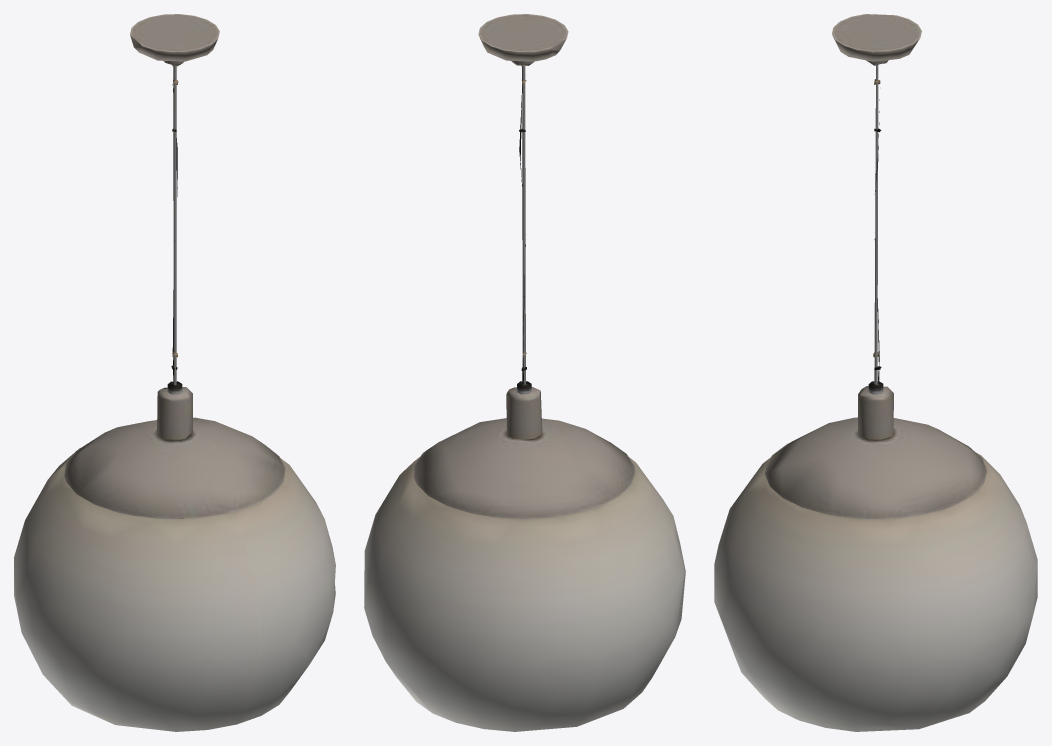
Rendered from modern_ceiling_lamp_01_lo.glb.
3 views of the same model, side by side, from view 1: azimuth 30°, elevation 25°; view 2: azimuth 150°, elevation 25°; view 3: azimuth 270°, elevation 25° (orthographic).
Visible parts, largest first — view 1: modern_ceiling_lamp_01; view 2: modern_ceiling_lamp_01; view 3: modern_ceiling_lamp_01.
Boxes of the visible parts, x1=… form: modern_ceiling_lamp_01: x1=14, y1=14, x2=335, y2=731; modern_ceiling_lamp_01: x1=364, y1=14, x2=685, y2=731; modern_ceiling_lamp_01: x1=714, y1=14, x2=1037, y2=731.
Bounding box in the file's own units: 0.4316 × 0.9512 × 0.428.
2 materials, 2 textured.
